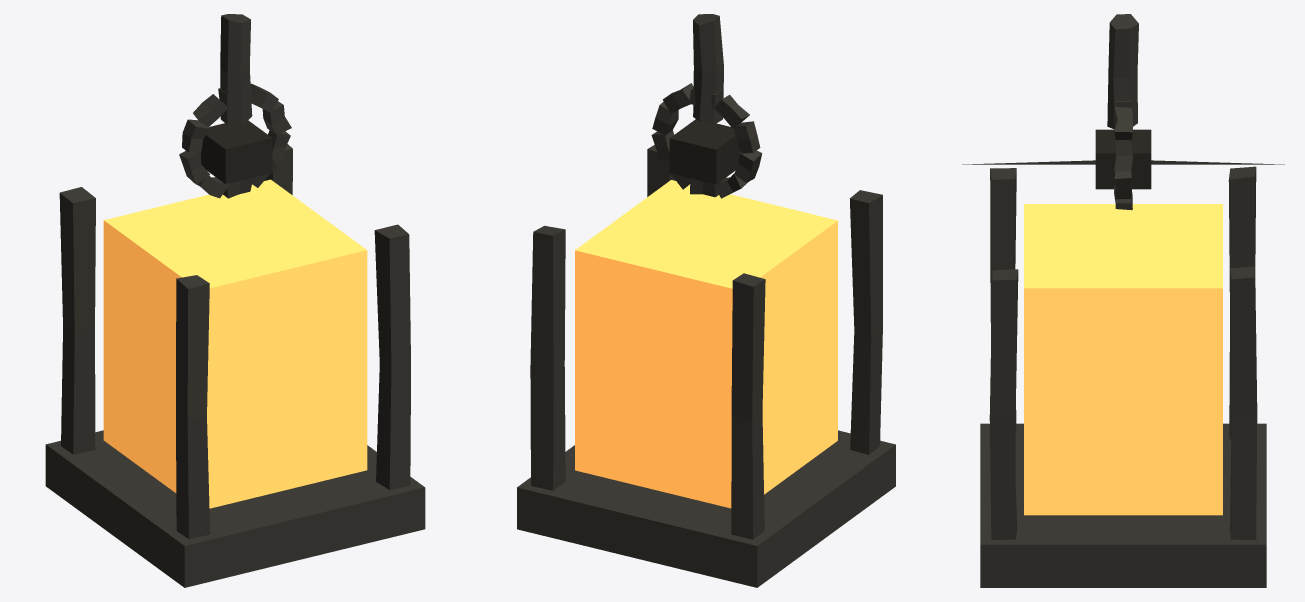
Rendered from farm_Lantern_hanging.glb.
3 views of the same model, side by side, from view 1: azimuth 30°, elevation 25°; view 2: azimuth 150°, elevation 25°; view 3: azimuth 270°, elevation 25° (orthographic). The views are drawn at different scales.
Parts seen in each view (by area): view 1: farm_Lantern_hanging.001; view 2: farm_Lantern_hanging.001; view 3: farm_Lantern_hanging.001.
Boxes of the visible parts, x1=… form: farm_Lantern_hanging.001: x1=45, y1=14, x2=425, y2=587; farm_Lantern_hanging.001: x1=517, y1=14, x2=895, y2=587; farm_Lantern_hanging.001: x1=962, y1=14, x2=1284, y2=587.
Bounding box in the file's own units: 0.42 × 0.7043 × 0.42.
